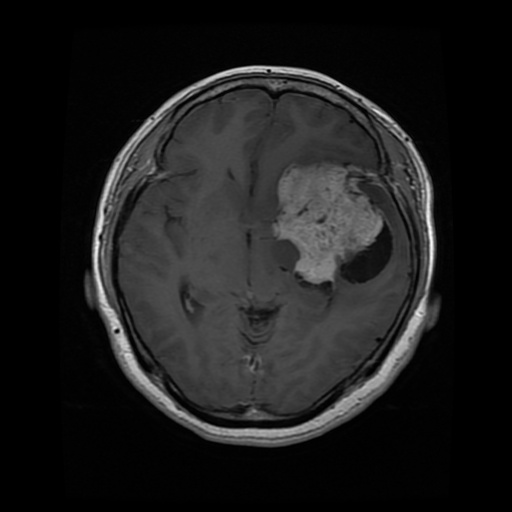meningioma: (273, 163, 380, 281)
